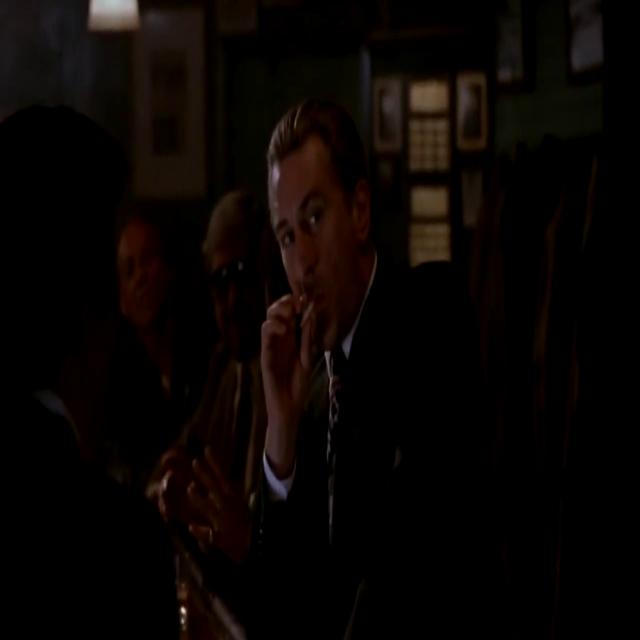Smooking: (290, 294, 318, 326)
